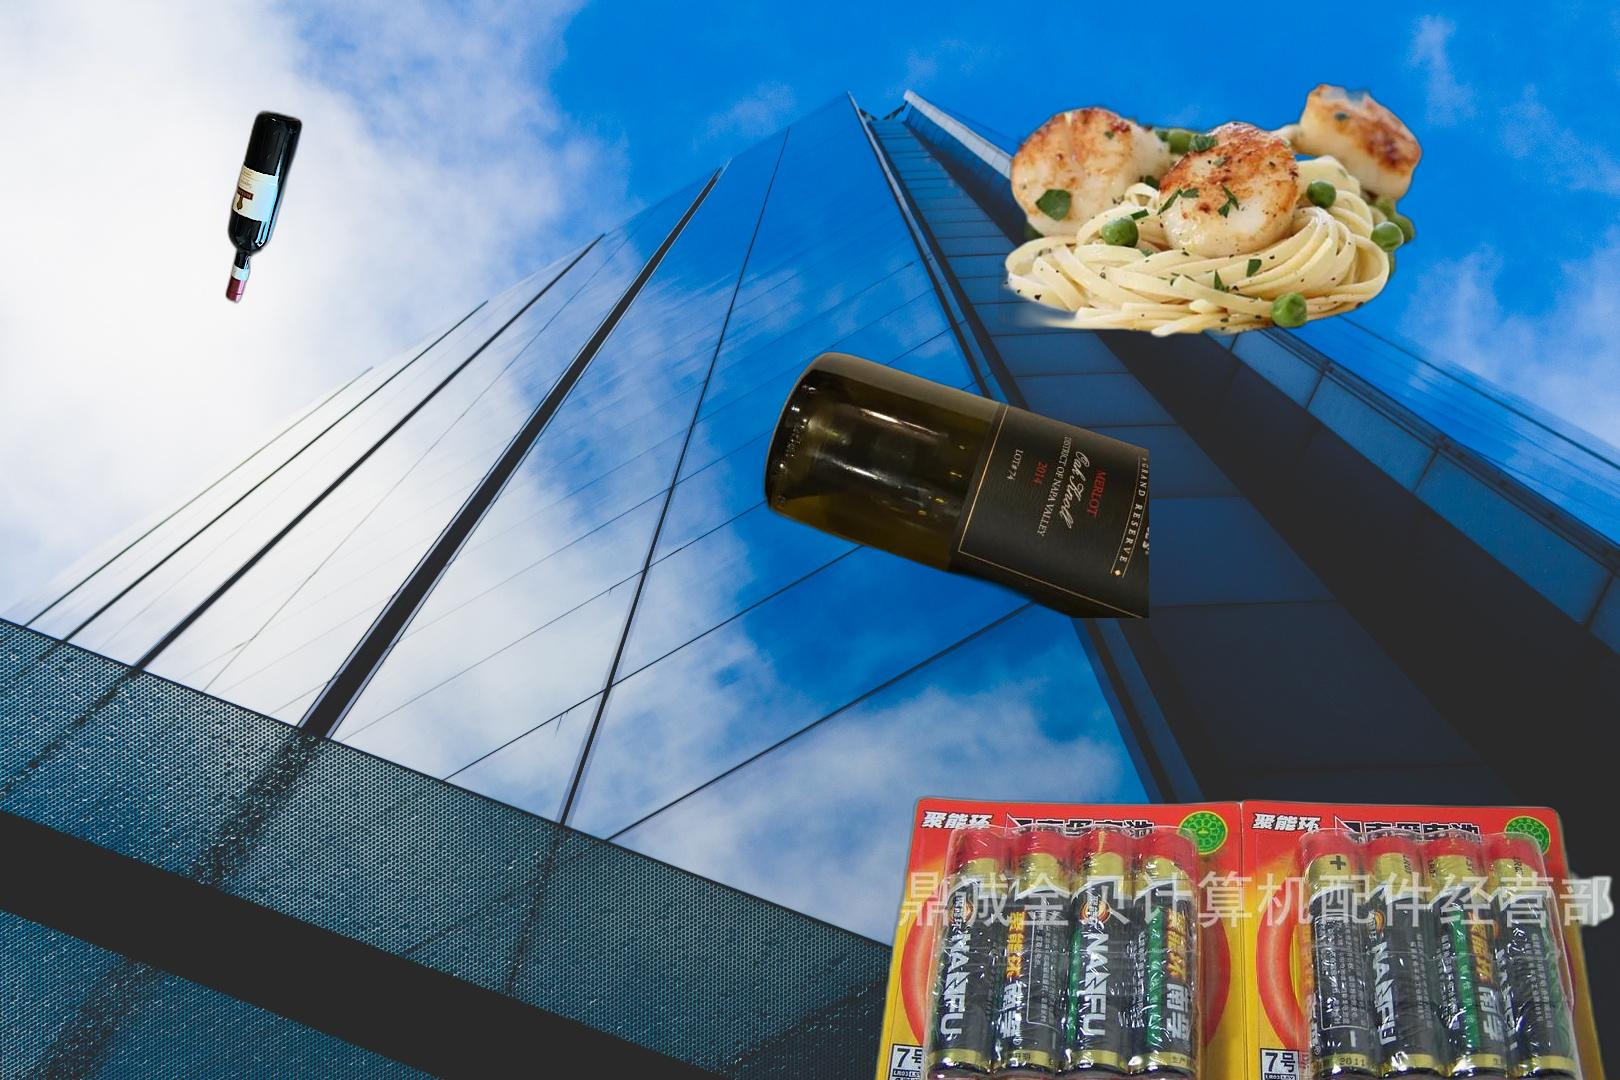battery: (859, 791, 1620, 1080)
biological: (998, 74, 1427, 337)
glass: (761, 350, 1149, 618), (221, 106, 306, 309)
